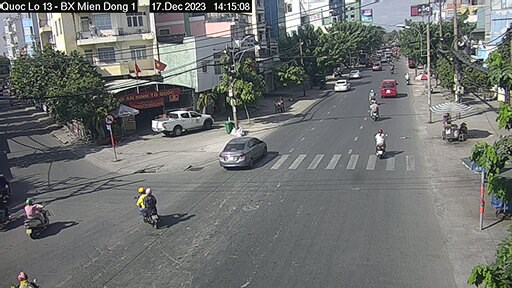car: (219, 137, 270, 170), (151, 109, 214, 135), (379, 77, 401, 98), (332, 78, 353, 92)
motorbike: (20, 199, 50, 238), (135, 189, 162, 231), (372, 131, 386, 158), (369, 96, 382, 120), (372, 59, 382, 71)
